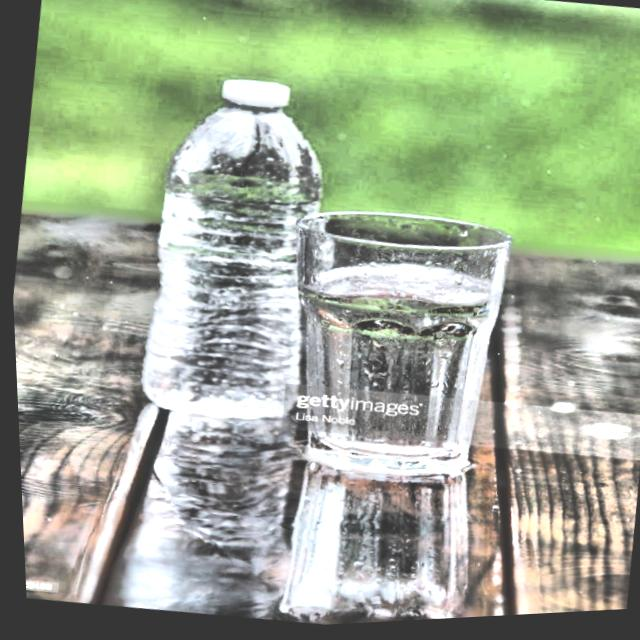Bottles: (104, 62, 347, 455)
